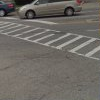crosswalk: (0, 20, 100, 60)
